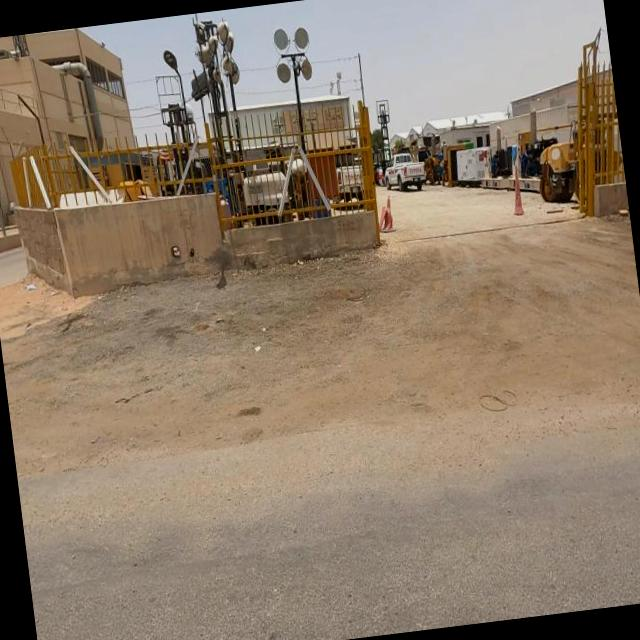debris: (227, 314, 286, 382), (8, 254, 58, 316)
